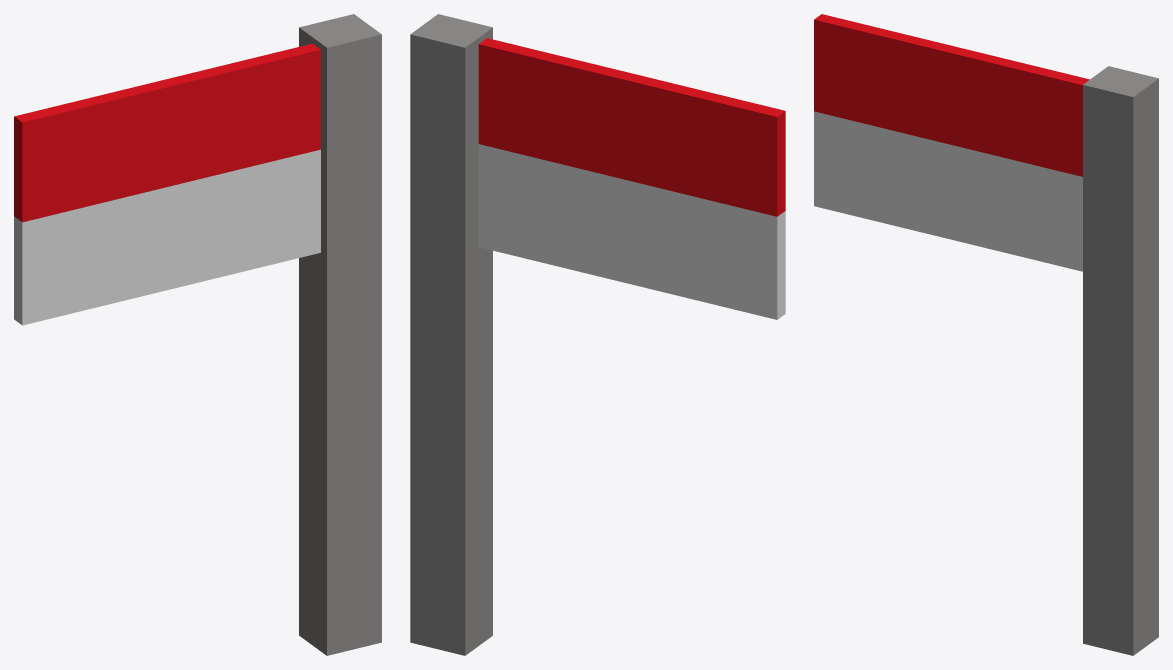
Rendered from bendera.fbx.
3 views of the same model, side by side, from view 1: azimuth 30°, elevation 25°; view 2: azimuth 150°, elevation 25°; view 3: azimuth 330°, elevation 25° (orthographic). The views are drawn at different scales.
Parts seen in each view (by area): view 1: Cube.004, Cube.003; view 2: Cube.004, Cube.003; view 3: Cube.004, Cube.003.
Part boxes in pixels (<box>): Cube.004: <box>14,43,320,325</box>; Cube.003: <box>299,14,381,655</box>; Cube.004: <box>478,38,785,319</box>; Cube.003: <box>410,14,492,655</box>; Cube.004: <box>814,14,1089,271</box>; Cube.003: <box>1083,66,1158,655</box>.
Size of the model in its own units: 706 by 1160 by 96.49.
